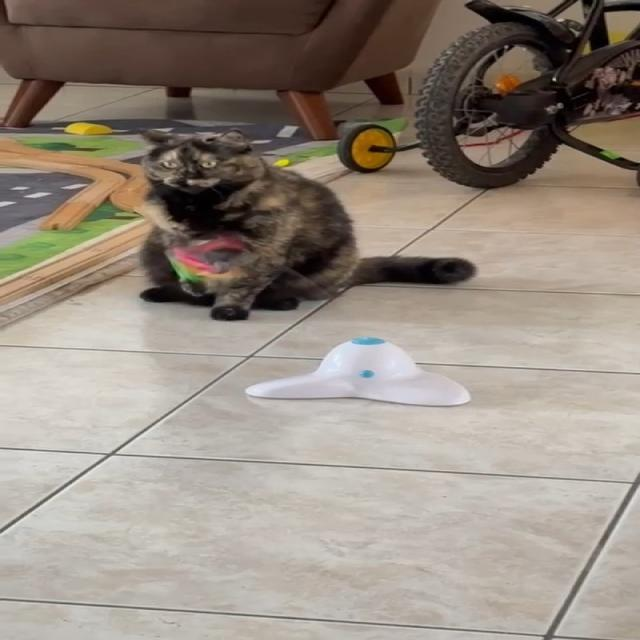authorized: (133, 127, 476, 320)
